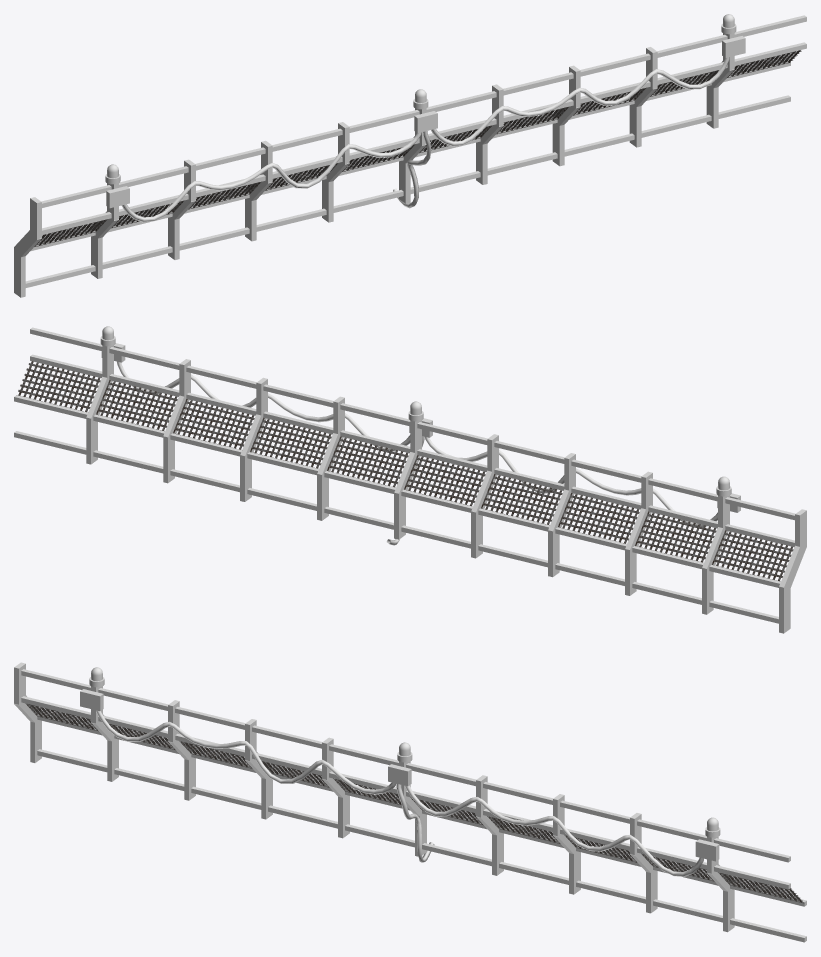
File: fence_10m_01.fbx
3 renders of one model, top to bottom at view 1: azimuth 30°, elevation 25°; view 2: azimuth 150°, elevation 25°; view 3: azimuth 330°, elevation 25°, orthographic.
Visible parts, largest first — view 1: Cube.092, Cube.085, Cube.133, Cube.086, Cube.087, Cube.088, BezierCurve.006, BezierCurve.005, BezierCurve.007, Cube.070, Cube.076, Cube.079; view 2: Cube.088, Cube.133, Cube.087, Cube.085, Cube.086, Cube.092, BezierCurve.006, BezierCurve.005, Cube.070; view 3: Cube.092, Cube.085, Cube.133, Cube.086, Cube.087, Cube.088, BezierCurve.005, BezierCurve.006, BezierCurve.007.
Boxes of the visible parts, x1,y1,x2,y2 form: Cube.092: [25, 95, 790, 287]; Cube.085: [41, 15, 806, 207]; Cube.133: [34, 50, 801, 246]; Cube.086: [42, 42, 806, 234]; Cube.087: [30, 60, 790, 251]; Cube.088: [38, 50, 799, 244]; BezierCurve.006: [121, 132, 421, 222]; BezierCurve.005: [431, 57, 729, 146]; BezierCurve.007: [393, 131, 431, 208]; Cube.070: [14, 247, 25, 297]; Cube.076: [552, 116, 564, 166]; Cube.079: [629, 100, 641, 147]; Cube.088: [18, 361, 793, 581]; Cube.133: [18, 362, 792, 580]; Cube.087: [14, 395, 780, 587]; Cube.085: [30, 327, 795, 520]; Cube.086: [30, 354, 794, 547]; Cube.092: [14, 431, 778, 623]; BezierCurve.006: [424, 437, 717, 527]; BezierCurve.005: [117, 361, 410, 451]; Cube.070: [779, 583, 790, 633]; Cube.092: [37, 749, 806, 942]; Cube.085: [21, 669, 790, 862]; Cube.133: [25, 703, 803, 903]; Cube.086: [21, 696, 790, 889]; Cube.087: [37, 714, 806, 906]; Cube.088: [27, 704, 802, 901]; BezierCurve.005: [405, 785, 703, 876]; BezierCurve.006: [96, 710, 395, 794]; BezierCurve.007: [396, 783, 434, 862].
Bounding box in the file's own units: 10032 × 1614 × 770.
